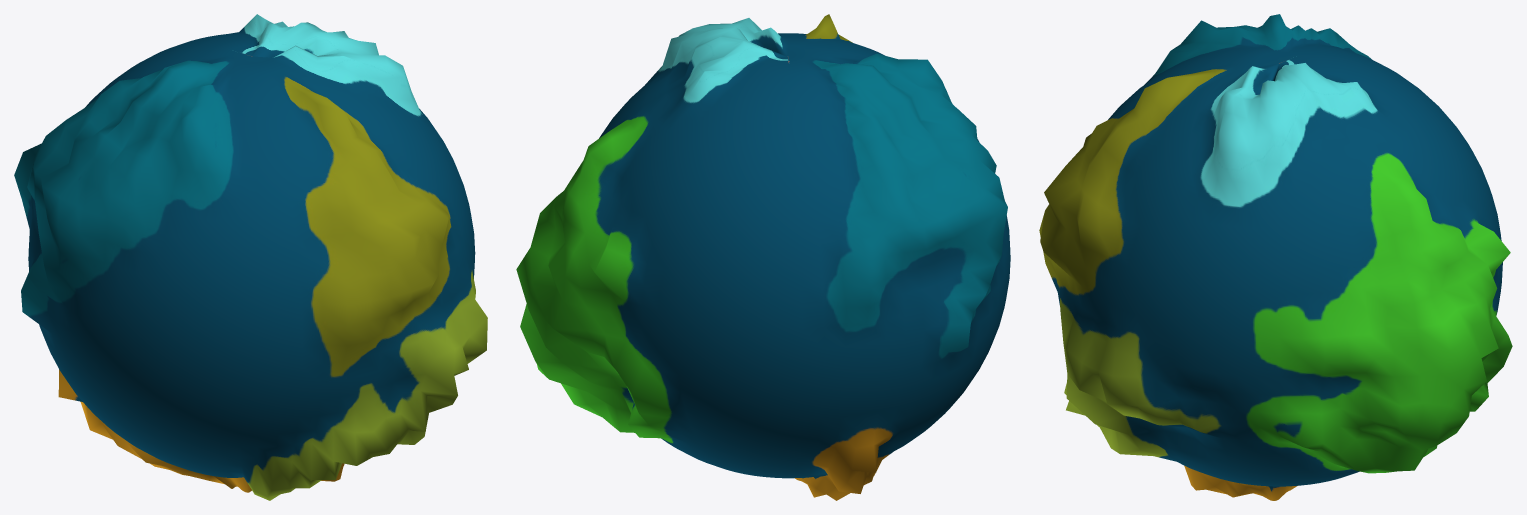
The model's file is test3DGlobe.fbx.
3 views of the same model, side by side, from view 1: azimuth 30°, elevation 25°; view 2: azimuth 150°, elevation 25°; view 3: azimuth 270°, elevation 25° (orthographic).
Visible parts, largest first — view 1: 3Dworld1; view 2: 3Dworld1; view 3: 3Dworld1.
Part boxes in pixels (x1,y1,x2,y2): 3Dworld1: [14, 14, 487, 500]; 3Dworld1: [516, 14, 1010, 500]; 3Dworld1: [1039, 14, 1512, 500].
Size of the model in its own units: 2.15 by 2.18 by 2.12.
